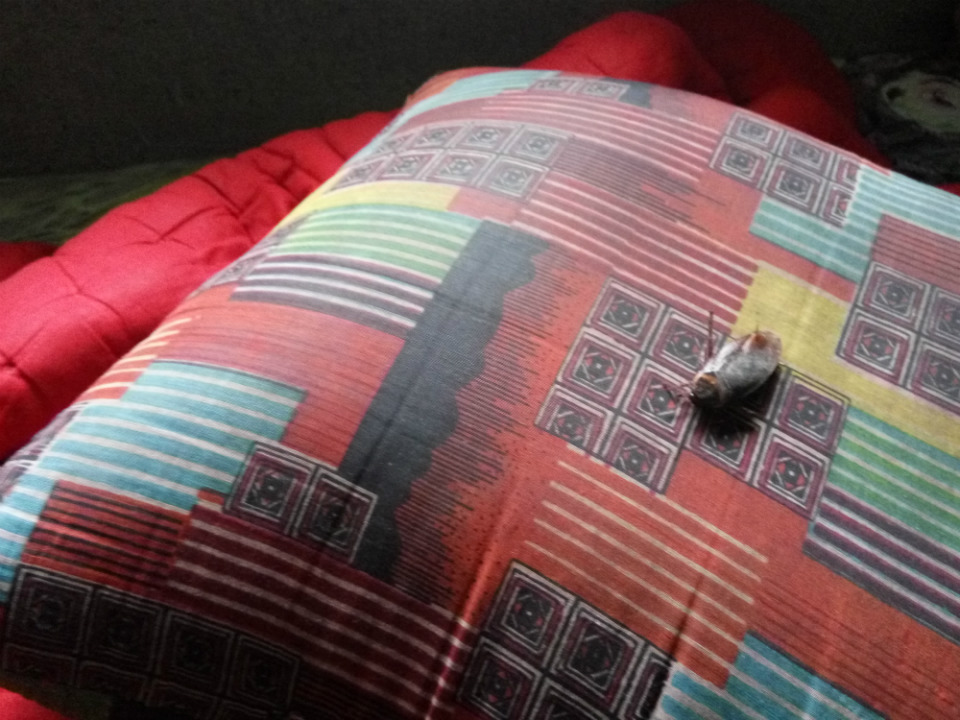cockroach: (577, 251, 828, 460)
